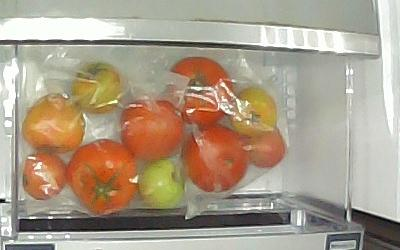tomato_vinyl: (68, 138, 138, 215), (182, 123, 249, 192), (166, 57, 233, 124), (120, 100, 185, 162), (21, 93, 85, 153), (72, 61, 124, 115), (22, 153, 70, 202), (140, 160, 186, 211), (232, 86, 277, 135), (249, 125, 287, 168)
